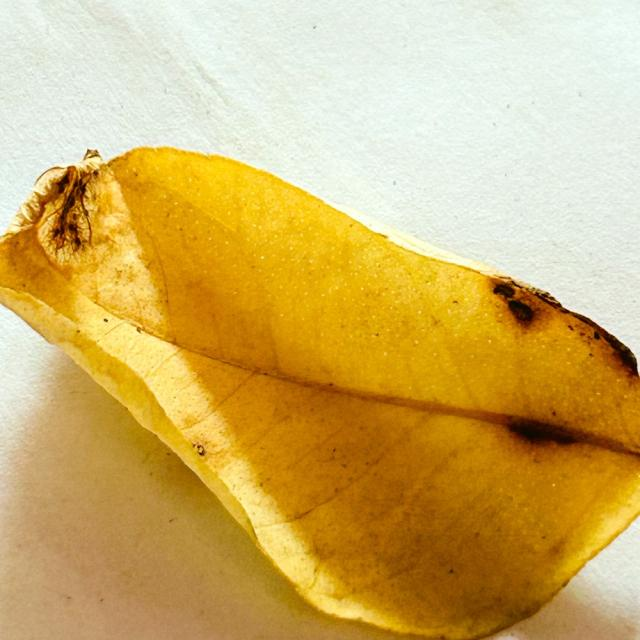DryLeaf_Lemon: (0, 148, 639, 637)
